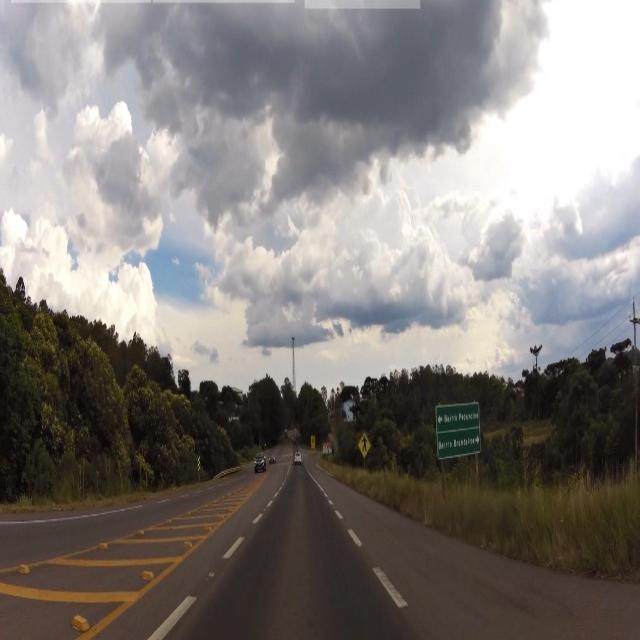I-4: (438, 406, 482, 457)
